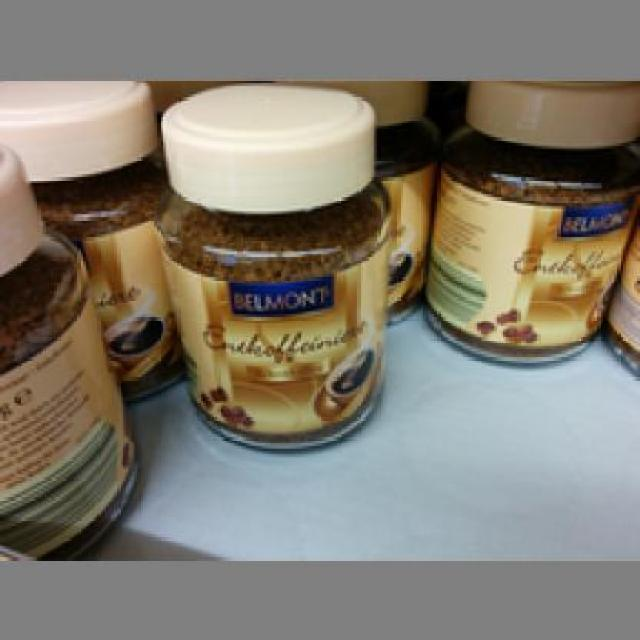Coffee: (152, 82, 388, 452), (417, 77, 637, 363)
